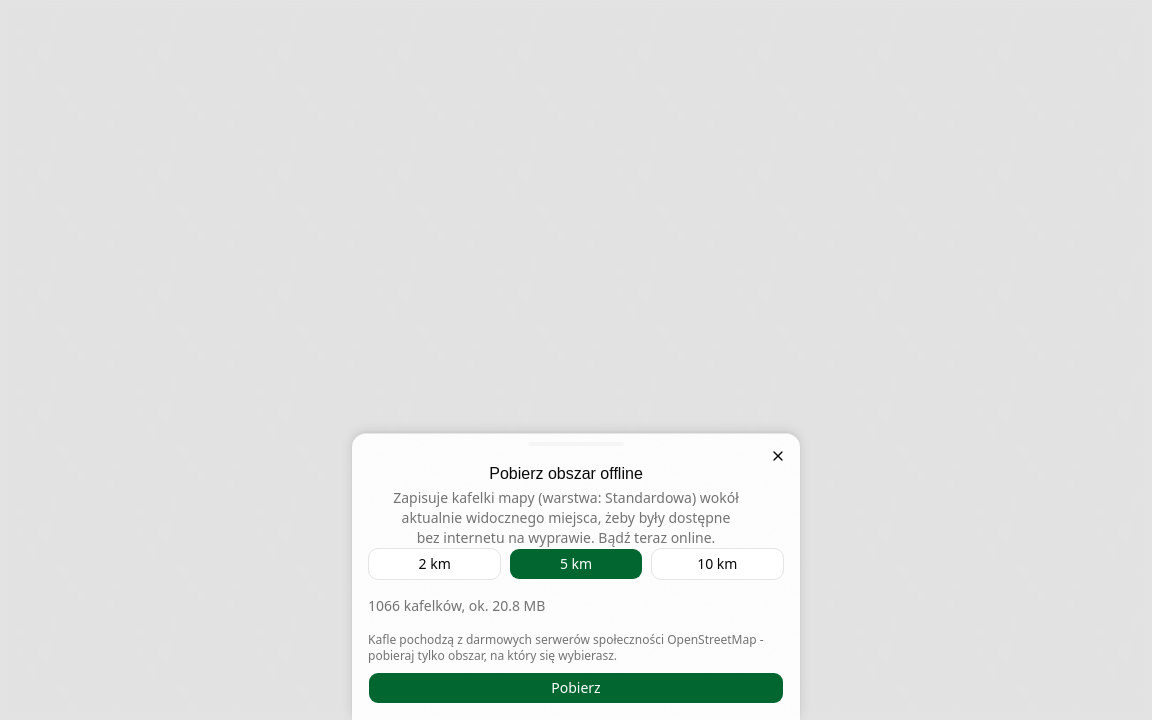
Test: OfflineAreaDownload › pobiera obszar, pokazuje postęp i zamyka panel po sukcesie
The width and height of the screenshot is (1152, 720).
Click the button "Pobierz".
click(576, 688)  # box [368,672,784,704]
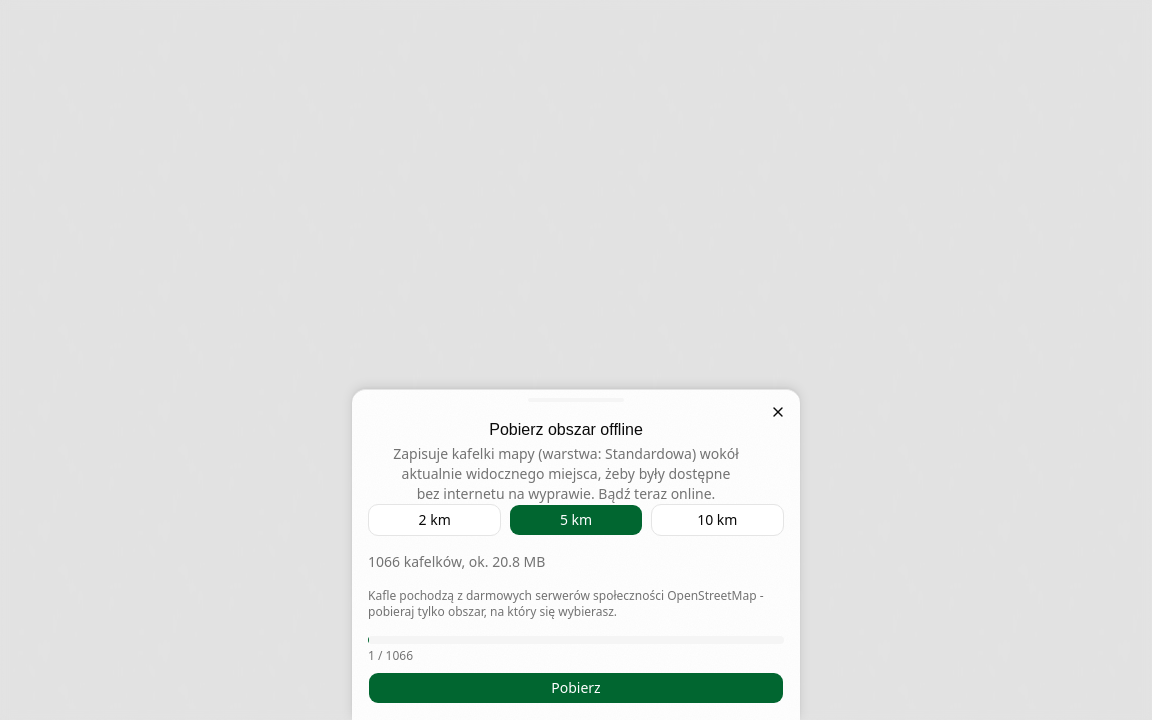
Expected: the text "1 / 1066" is shown, [368,647,413,664]
